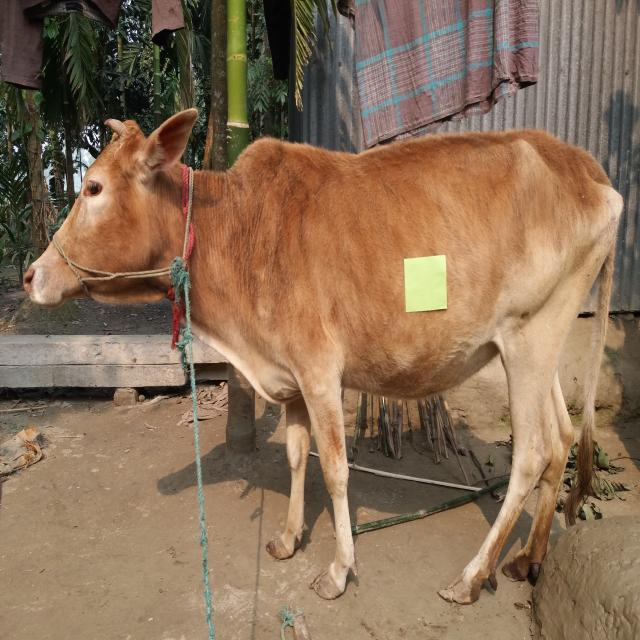badan_sapi: (263, 134, 610, 400)
sapi: (13, 98, 629, 614)
